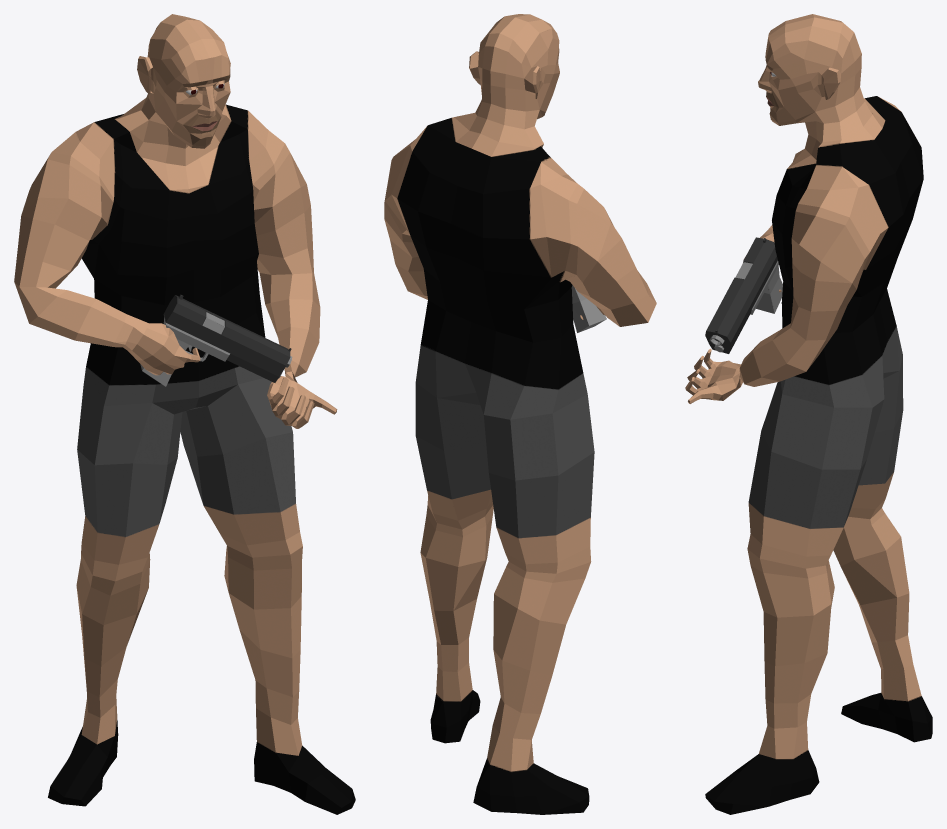
Rendered from PlayerIdle(17).obj.
3 renders of one model, left to right at view 1: azimuth 30°, elevation 25°; view 2: azimuth 150°, elevation 25°; view 3: azimuth 270°, elevation 25°, orthographic. The views are drawn at different scales.
Parts seen in each view (by area): view 1: Plane002, Box003; view 2: Plane002, Box003; view 3: Plane002, Box003.
Part boxes in pixels (x1,y1,x2,y2): Plane002: [14, 14, 355, 814]; Box003: [140, 294, 292, 386]; Plane002: [384, 14, 656, 814]; Box003: [571, 285, 606, 332]; Plane002: [685, 14, 932, 814]; Box003: [705, 237, 782, 353].
Bounding box in the file's own units: 676 × 1809 × 549.
